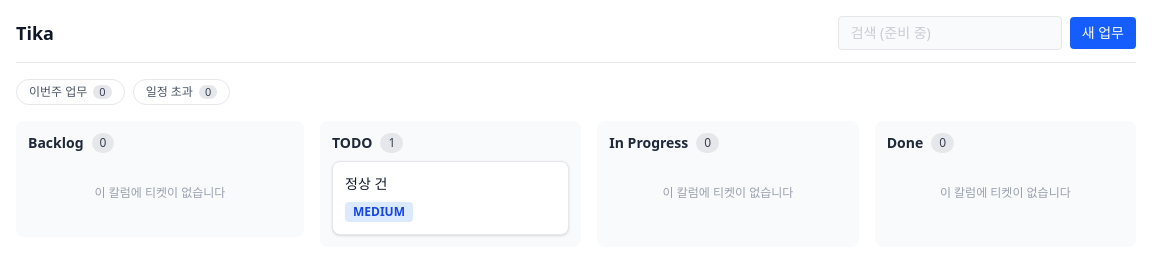
it: BoardContainer — 필터 (COMPONENT_SPEC §2.3) › 활성 필터를 다시 누르면 전체 보기로 돌아온다
Click the button "일정 초과 0": [181, 92] box x1=133 y1=79 x2=230 y2=105
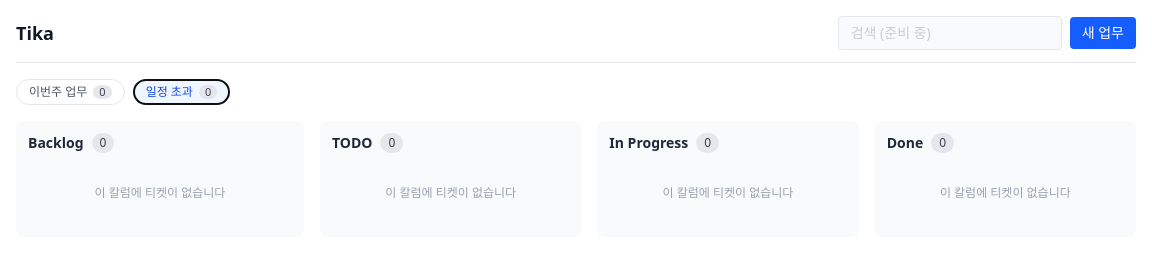
Expected: the button "정상 건" is gone
Click the button "일정 초과 0": [181, 92] box x1=133 y1=79 x2=230 y2=105
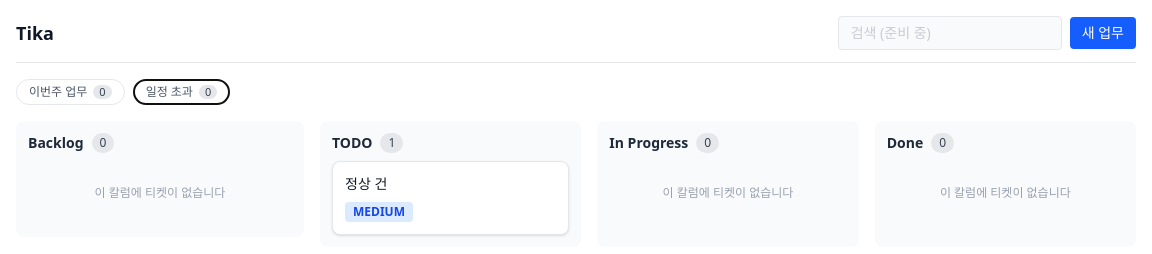
Expected: the text "정상 건" is shown, x1=345 y1=174 x2=387 y2=193
